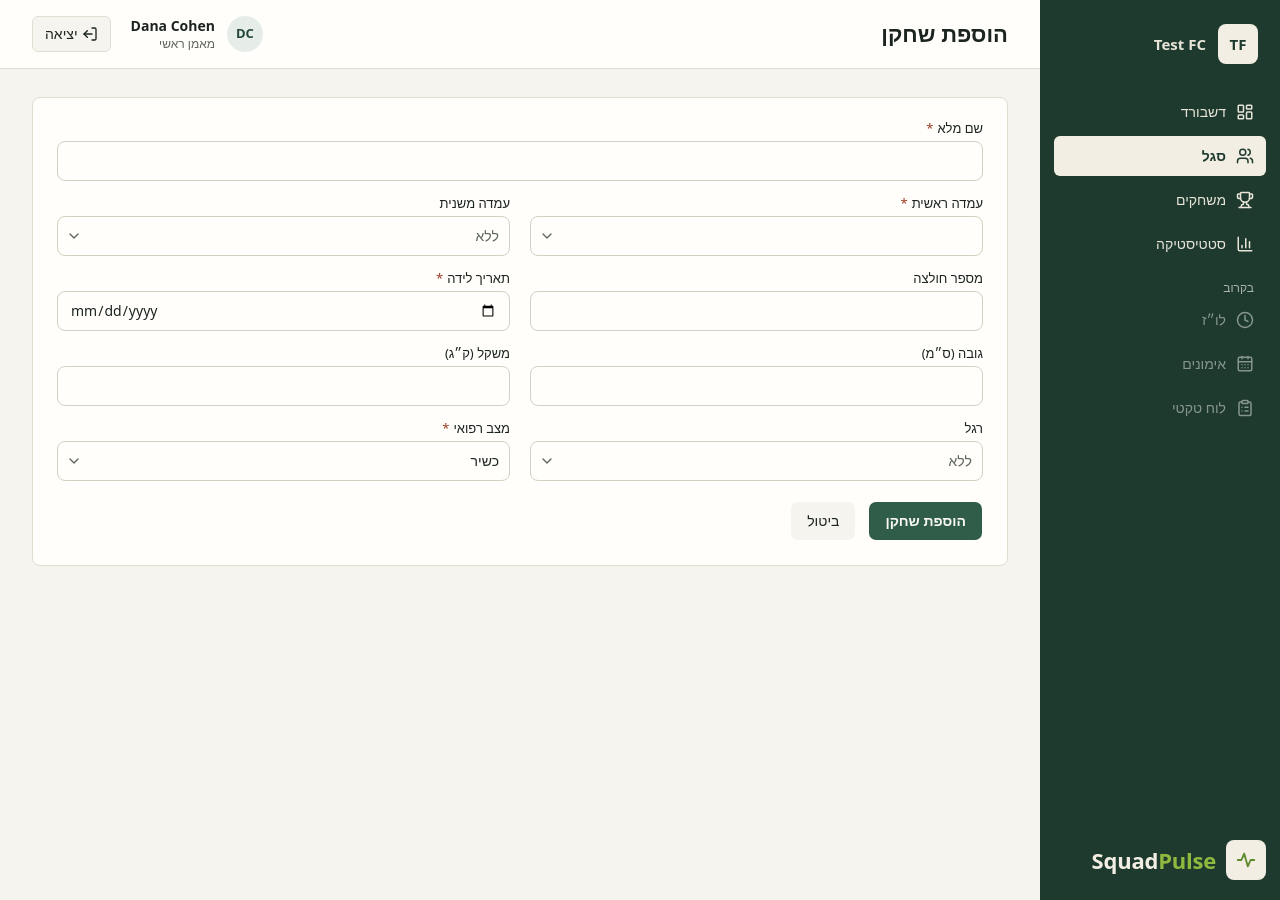
Test: the add-player form › validates as the user types after the first submit
Expected: the heading "הוספת שחקן" is shown, [881,20,1008,48]
Expected: the button "הוספת שחקן" is shown, [868,501,983,541]
Type "Avi" into the field labelled "שם מלא *". click: (520, 161)
box: [57,141,983,181]
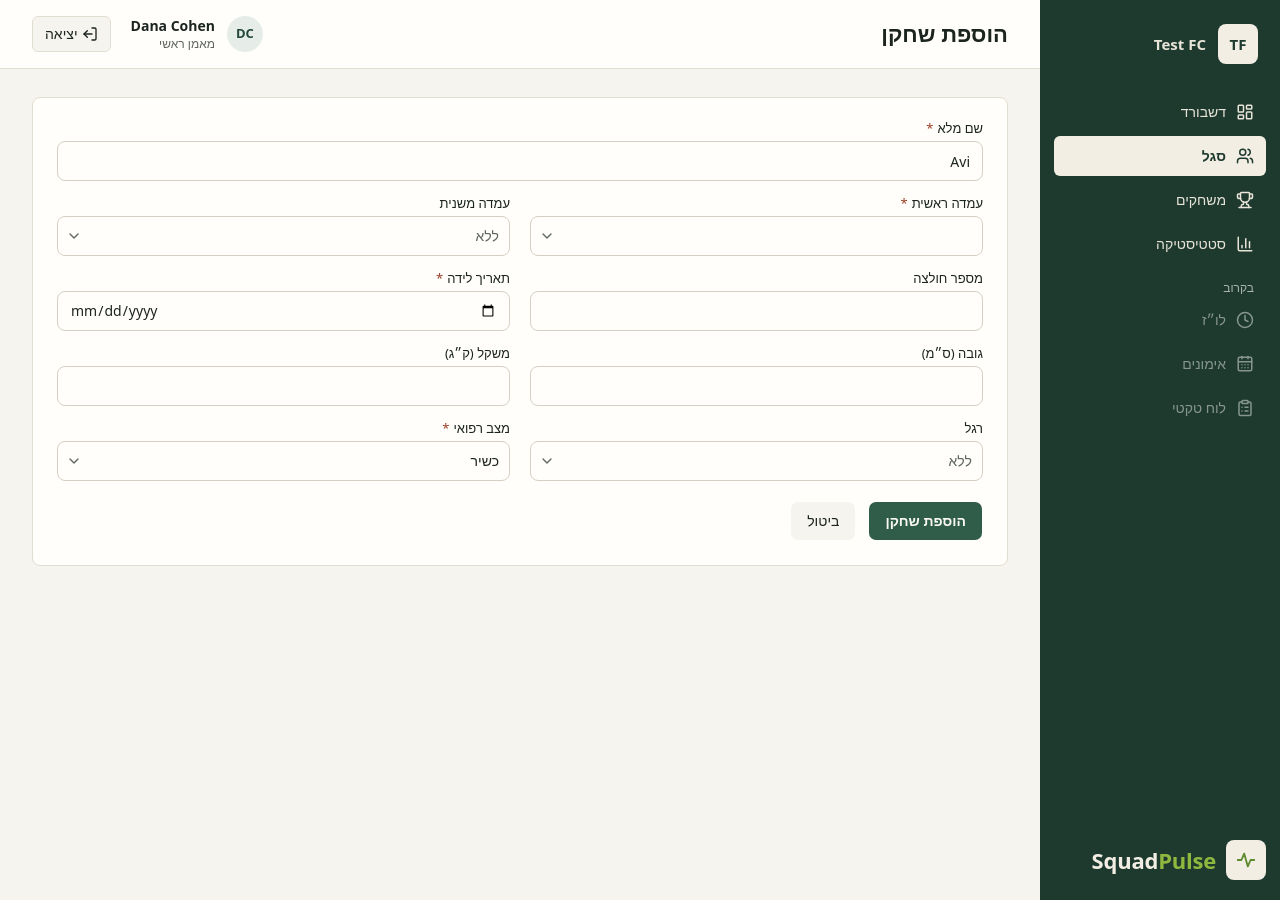
Clear the field labelled "שם מלא *". click: (520, 161)
box: [57,141,983,181]
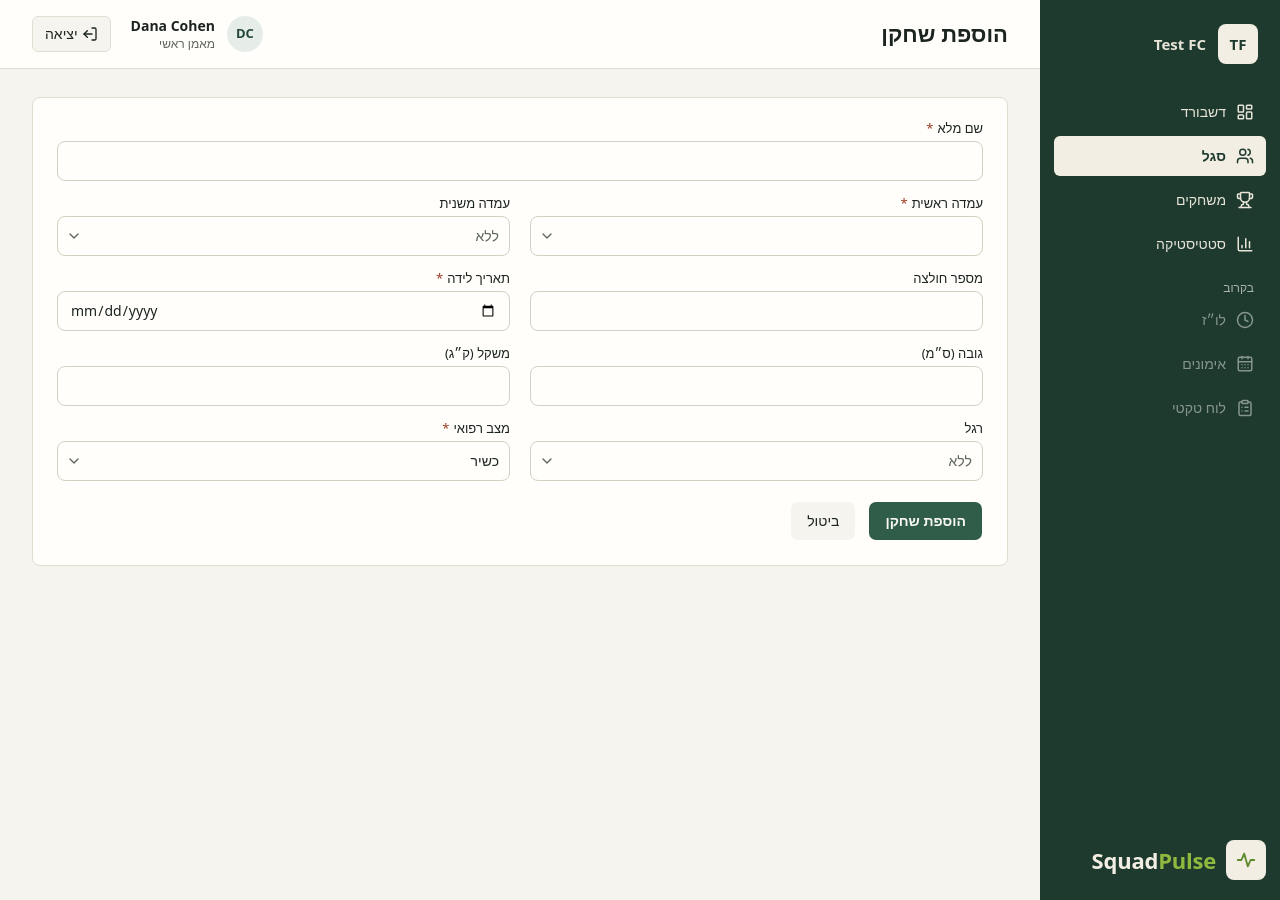
Click the button "הוספת שחקן". click: (926, 521)
box: [868,501,983,541]
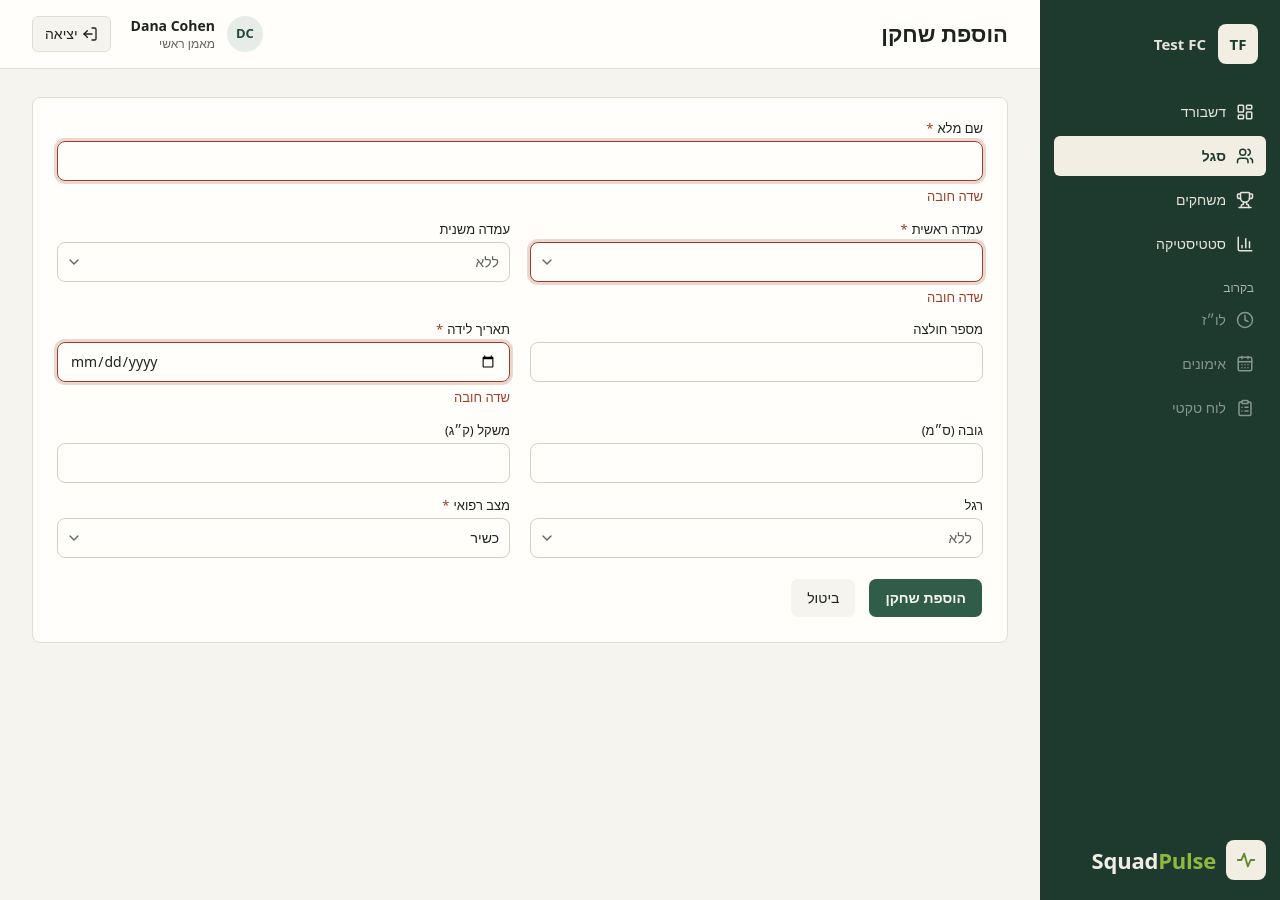
Expected: the text "שדה חובה" below "שם מלא" is shown, [927,187,983,205]
Type "Avi" into the field labelled "שם מלא *". click: (520, 161)
box: [57,141,983,181]
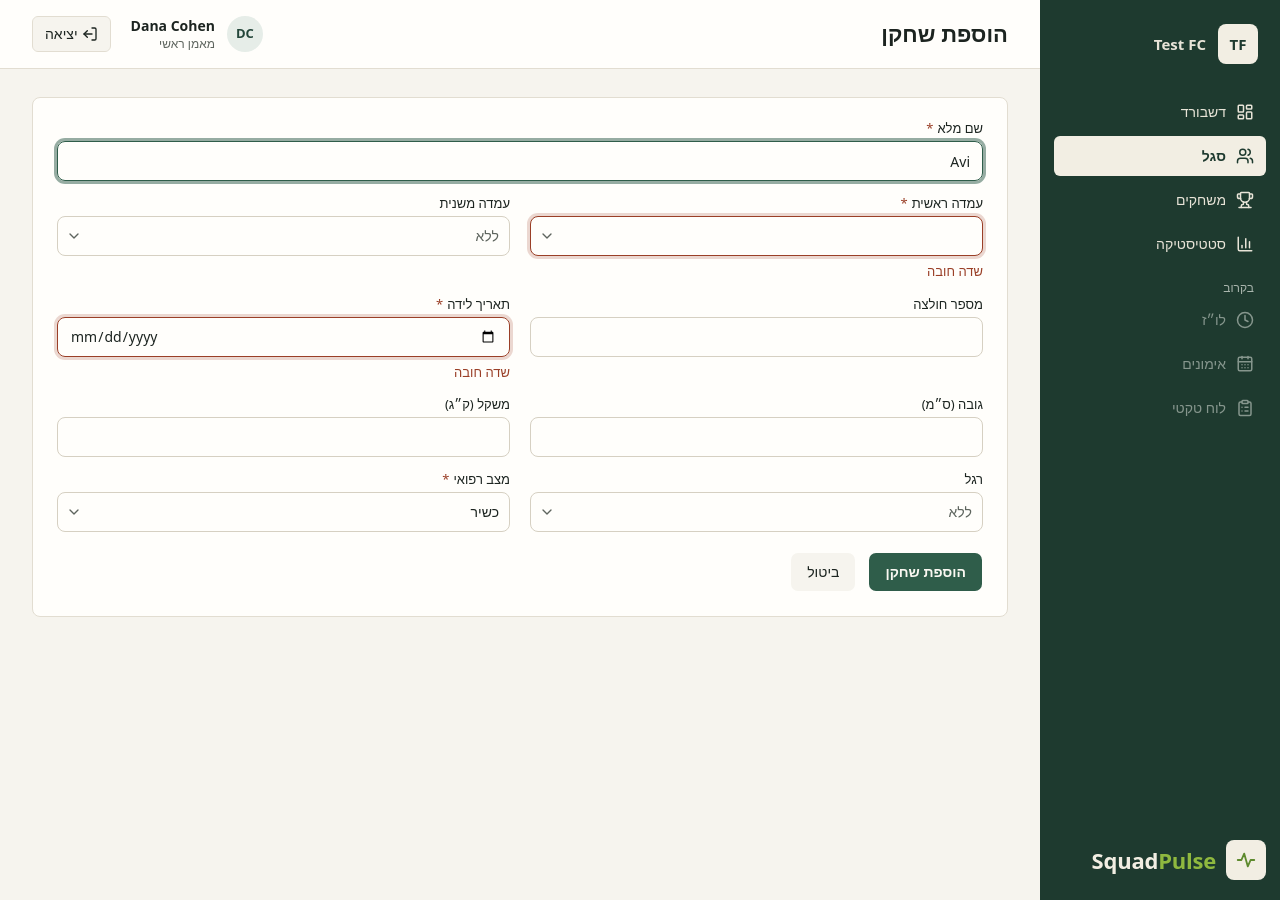
Type "2026-01-01" into the date field labelled "תאריך לידה *". click: (284, 336)
box: [57,316,510,356]
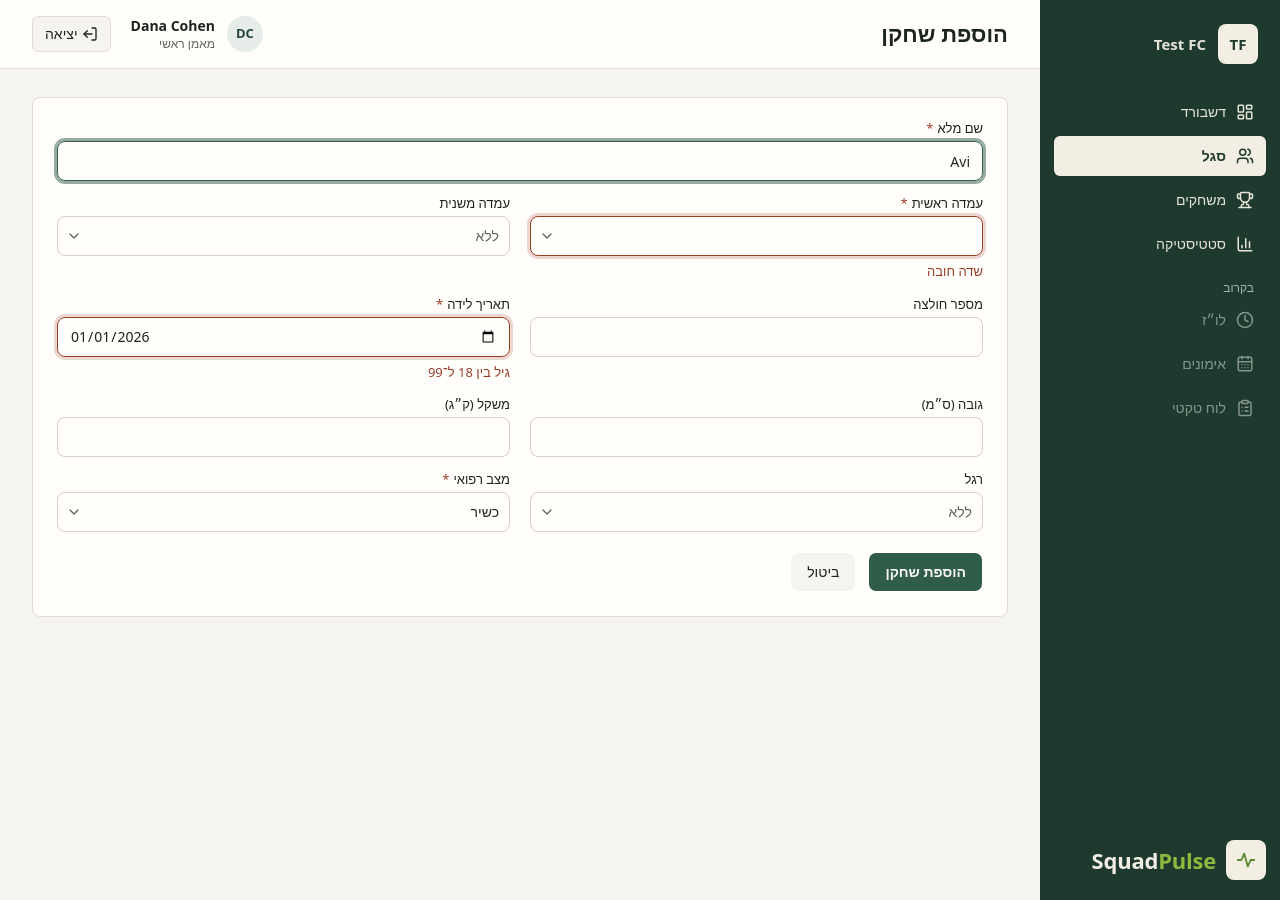
Expected: the text "גיל בין 18 ל־99" is shown, [428,362,510,380]
